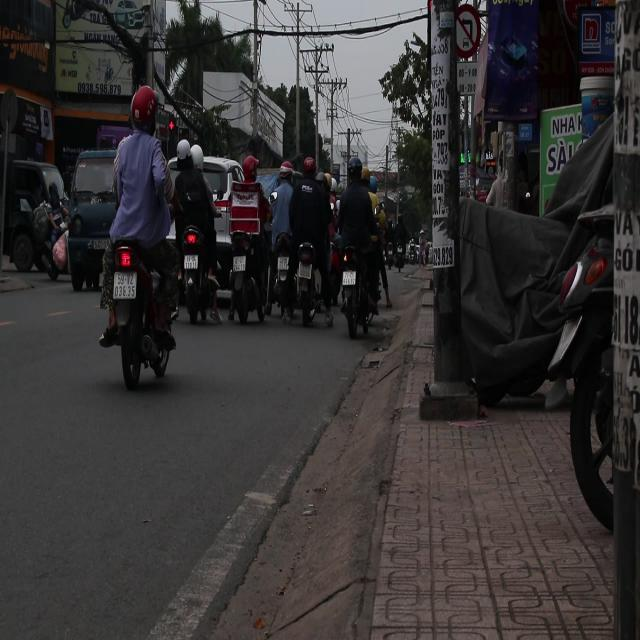car: (3, 158, 72, 278), (65, 151, 121, 290)
motorbike: (99, 236, 181, 390), (169, 145, 226, 319), (223, 159, 273, 322), (336, 251, 376, 337), (293, 241, 325, 326)
